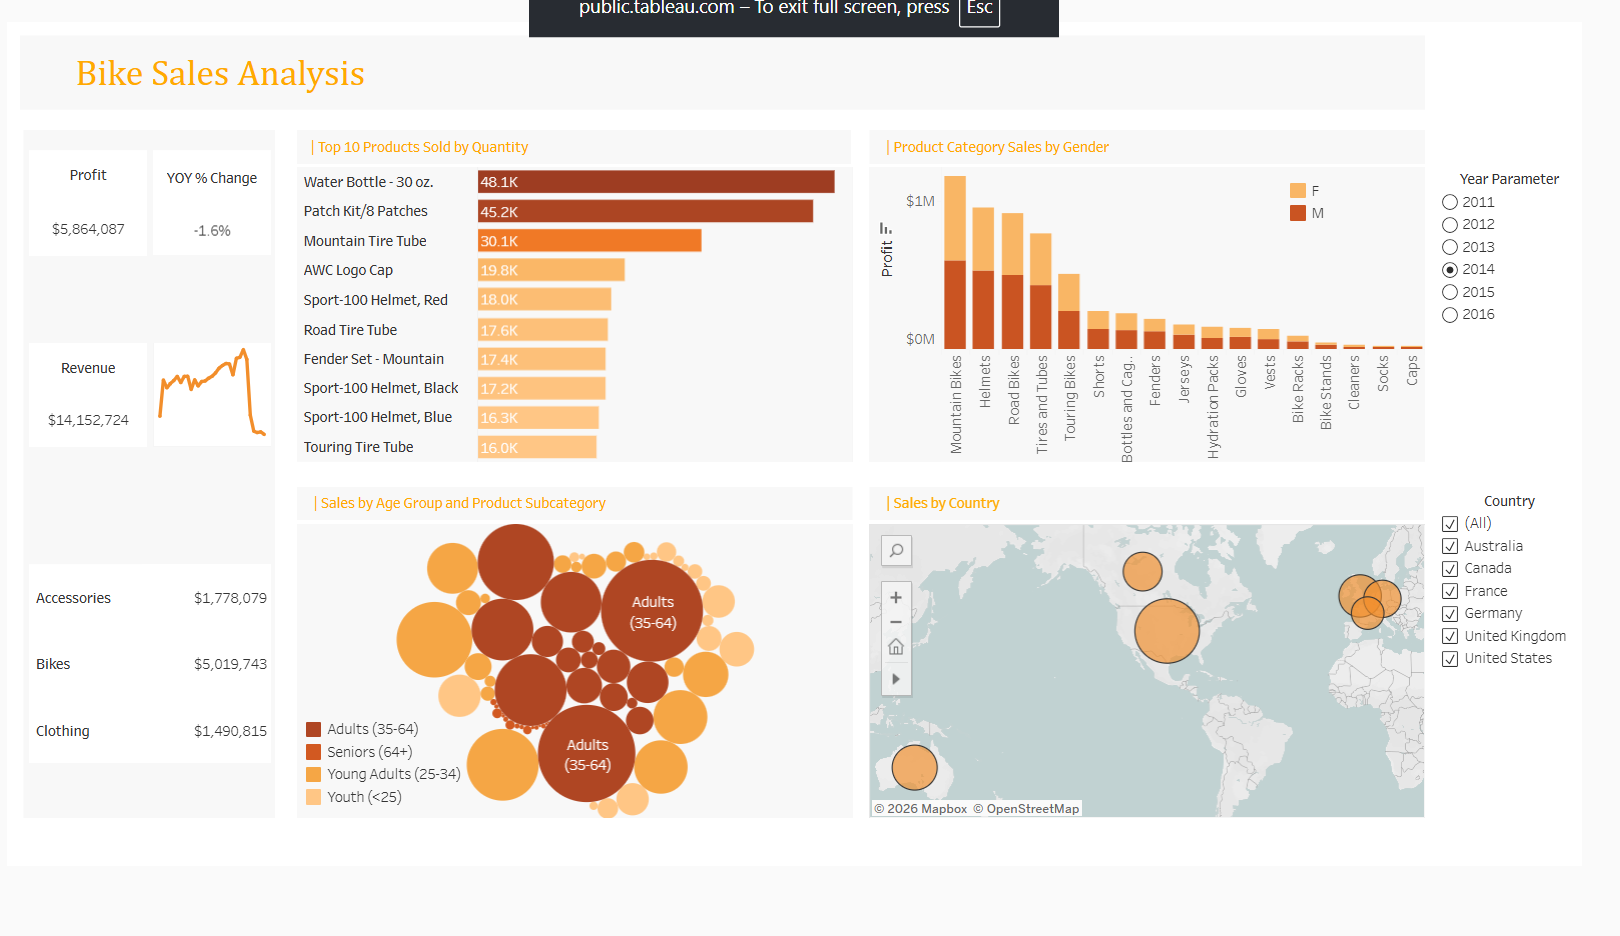

The page's visual inventory and layout, read from the dashboard file:
{"tool":"tableau","page":{"name":"Sales Dashboard","canvas":[1400,750],"ordinal":0},"visuals":[{"type":"title","box":[8,8,1257,74]},{"type":"blank","box":[8,82,1257,660]},{"type":"worksheet","title":"Top 10 Products","mark":"Bar","rows":["Product"],"box":[257.7,96.4,494.3,294.9]},{"type":"worksheet","title":"Sub-Category ","mark":"Automatic","rows":["Profit"],"cols":["Sub_Category"],"box":[767.2,96.4,494.3,294.9]},{"type":"worksheet","title":"Profit Card","mark":"Automatic","cols":["Calculation_1741204227482750977"],"box":[20,114,105,94]},{"type":"worksheet","title":"YOY % change","mark":"Automatic","cols":["Calculation_1741204227486285831"],"box":[130,114,105,93]},{"type":"parameter","param":"[Parameters].[Parameter 1]","box":[1272,131,128,193]},{"type":"legend","title":"Sub-Category ","param":"[federated.1og45891pi2o6715y5zxj0riisuu].[none:Customer_Gender:nk]","box":[1138.1,140.5,118.3,59.9]},{"type":"worksheet","title":"Revenue Card","mark":"Automatic","cols":["Calculation_1741204227487277064"],"box":[20,285,105,93]},{"type":"worksheet","title":"Revenue Line Chart","mark":"Automatic","rows":["Revenue"],"cols":["Date"],"box":[130,285,105,93]},{"type":"worksheet","title":"Age Group bubble chart ","mark":"Circle","box":[257.7,412.9,494.3,294.9]},{"type":"worksheet","title":"Map","mark":"Automatic","box":[767.2,412.9,494.3,294.9]},{"type":"filter","title":"Age Group bubble chart ","param":"[federated.1og45891pi2o6715y5zxj0riisuu].[none:Country:nk]","box":[1272,417,128,193]},{"type":"worksheet","title":"Cost Cards","mark":"Automatic","rows":["Product_Category"],"box":[20,482,215,177]},{"type":"legend","title":"Age Group bubble chart ","param":"[federated.1og45891pi2o6715y5zxj0riisuu].[none:Age_Group:nk]","box":[262.8,618.9,149.5,82.4]}]}

Visuals, with their boxes on the page's 1400x750 design canvas (x1, y1, x2, y2). These are canvas units, not pixel positions in the 1620x936 screenshot, which may show the page scaled, cropped or inside an application window:
title: select_region(8, 8, 1265, 82)
blank: select_region(8, 82, 1265, 742)
"Top 10 Products" worksheet (Bar marks): select_region(258, 96, 752, 391)
"Sub-Category " worksheet: select_region(767, 96, 1262, 391)
"Profit Card" worksheet: select_region(20, 114, 125, 208)
"YOY % change" worksheet: select_region(130, 114, 235, 207)
parameter: select_region(1272, 131, 1400, 324)
"Sub-Category " legend: select_region(1138, 140, 1256, 200)
"Revenue Card" worksheet: select_region(20, 285, 125, 378)
"Revenue Line Chart" worksheet: select_region(130, 285, 235, 378)
"Age Group bubble chart " worksheet (Circle marks): select_region(258, 413, 752, 708)
"Map" worksheet: select_region(767, 413, 1262, 708)
"Age Group bubble chart " filter: select_region(1272, 417, 1400, 610)
"Cost Cards" worksheet: select_region(20, 482, 235, 659)
"Age Group bubble chart " legend: select_region(263, 619, 412, 701)
